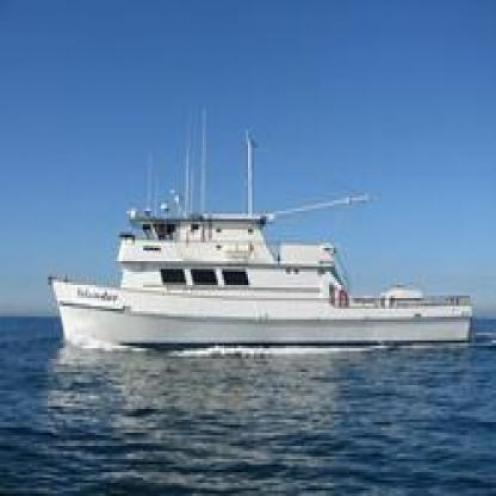Ship: (42, 211, 485, 359)
